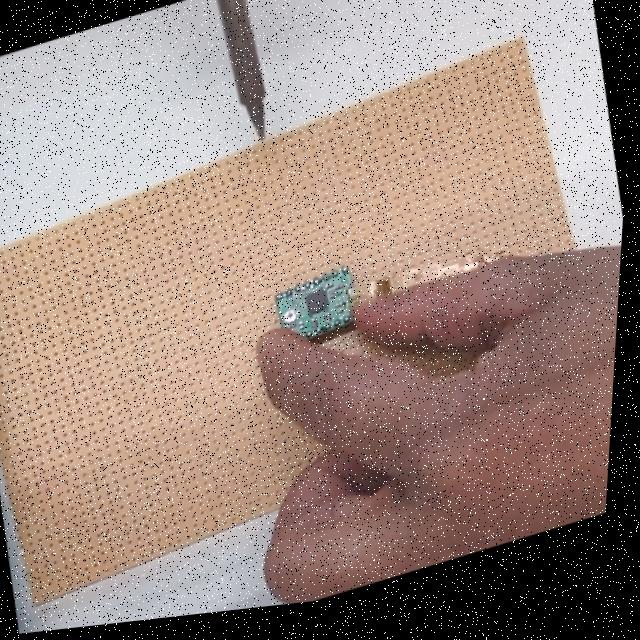Chip: (269, 260, 363, 358)
soldering_iron: (192, 0, 285, 160)
